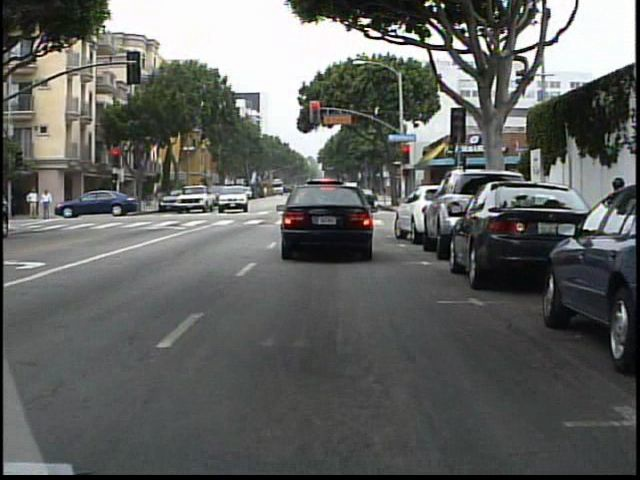person: (26, 185, 43, 221), (42, 187, 54, 220)
